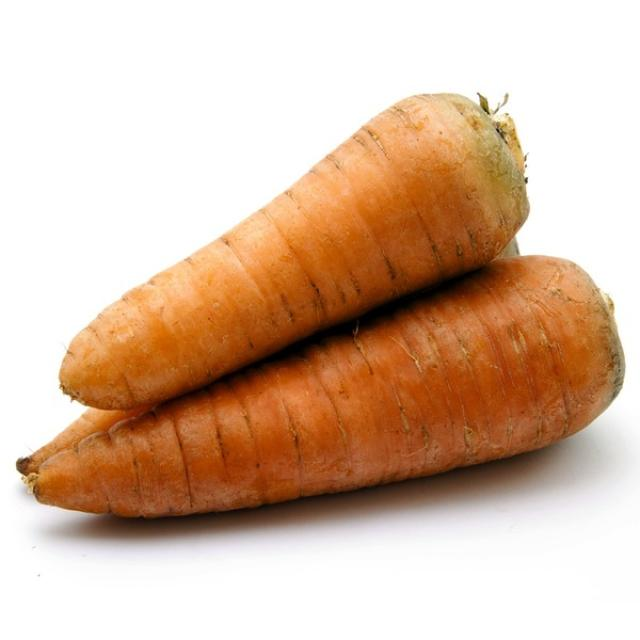carrot: (24, 250, 626, 531), (52, 90, 534, 410)
